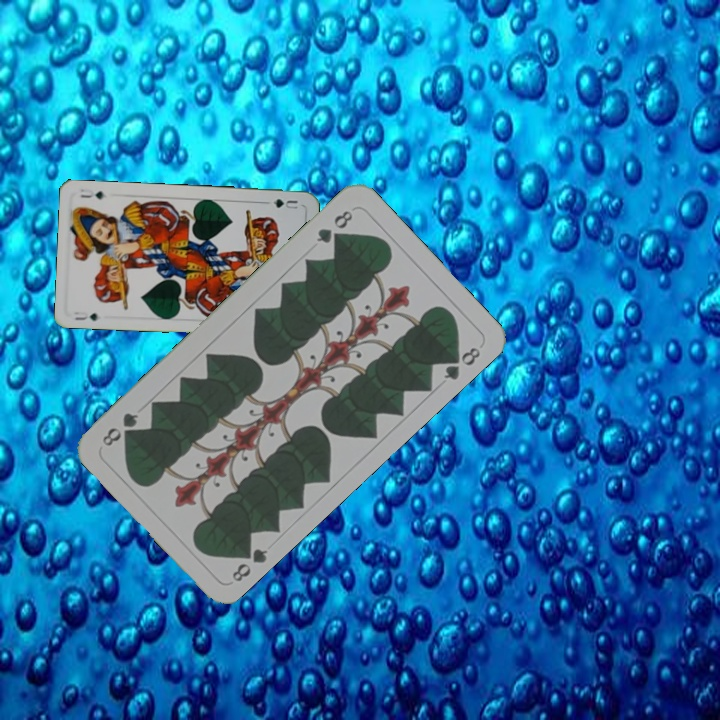G8: (227, 540, 270, 585), (312, 206, 356, 246)
GU: (269, 195, 300, 211), (70, 307, 100, 323)
